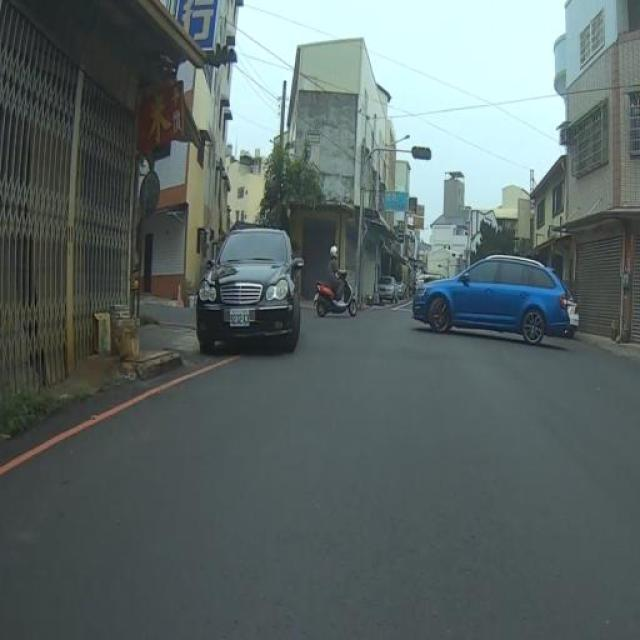illegalparking: (174, 209, 311, 393)
